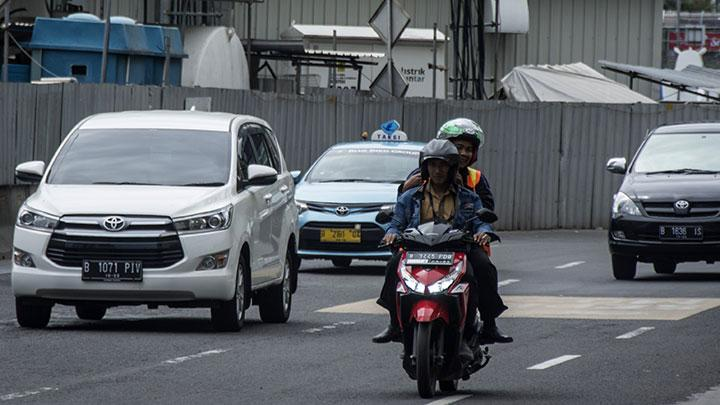mobil: (9, 103, 299, 336), (596, 109, 719, 281)
sepeda: (371, 120, 517, 396)
